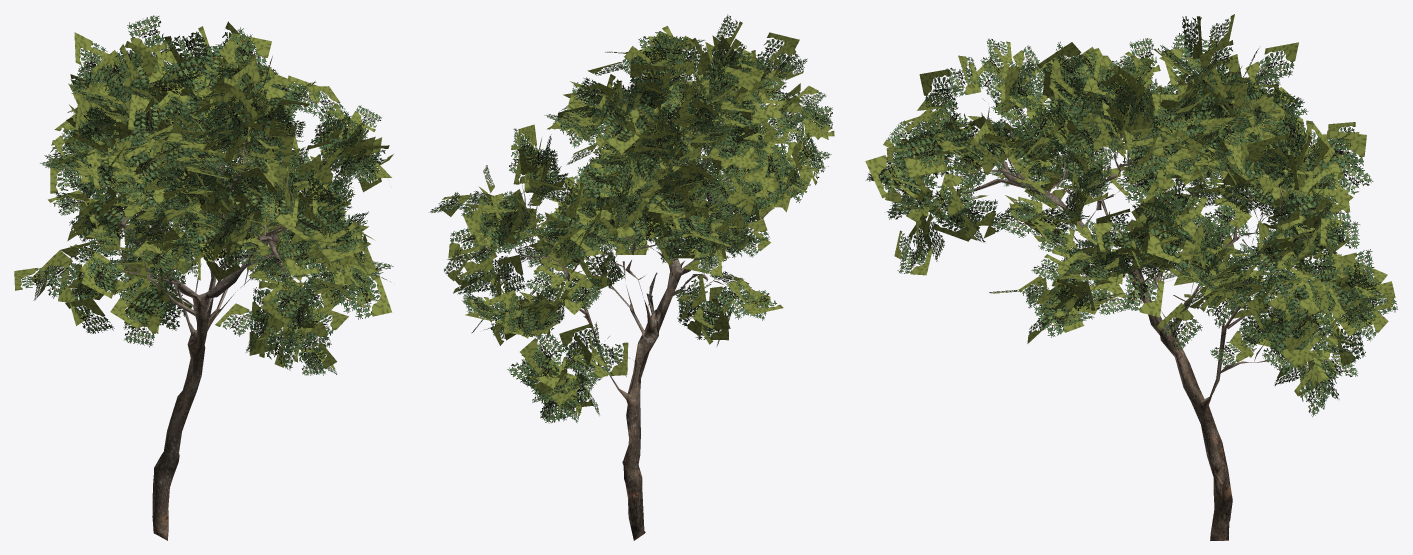
File: tree_small.glb
3 views of the same model, side by side, from view 1: azimuth 30°, elevation 25°; view 2: azimuth 150°, elevation 25°; view 3: azimuth 270°, elevation 25° (orthographic). The views are drawn at different scales.
Bounding box in the file's own units: 3.19 × 4.66 × 4.5.
3 materials, 3 textured.
